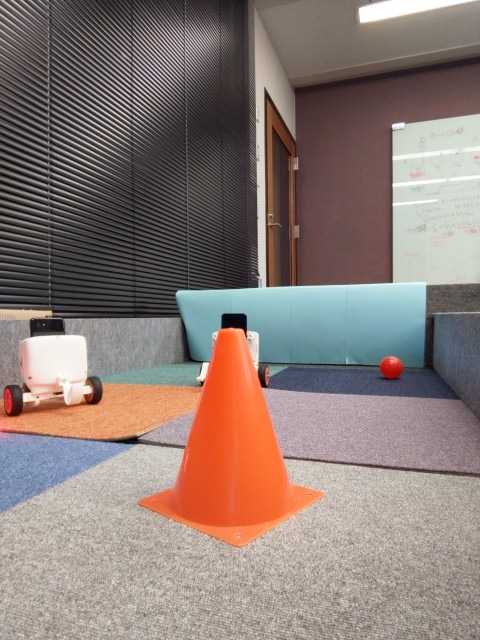bl: (1, 314, 104, 420)
